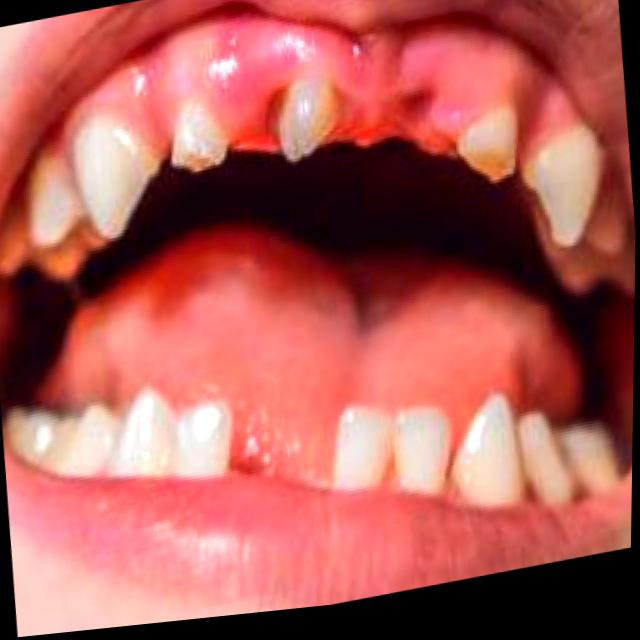hypodontia: (29, 12, 598, 270), (211, 399, 356, 493)
